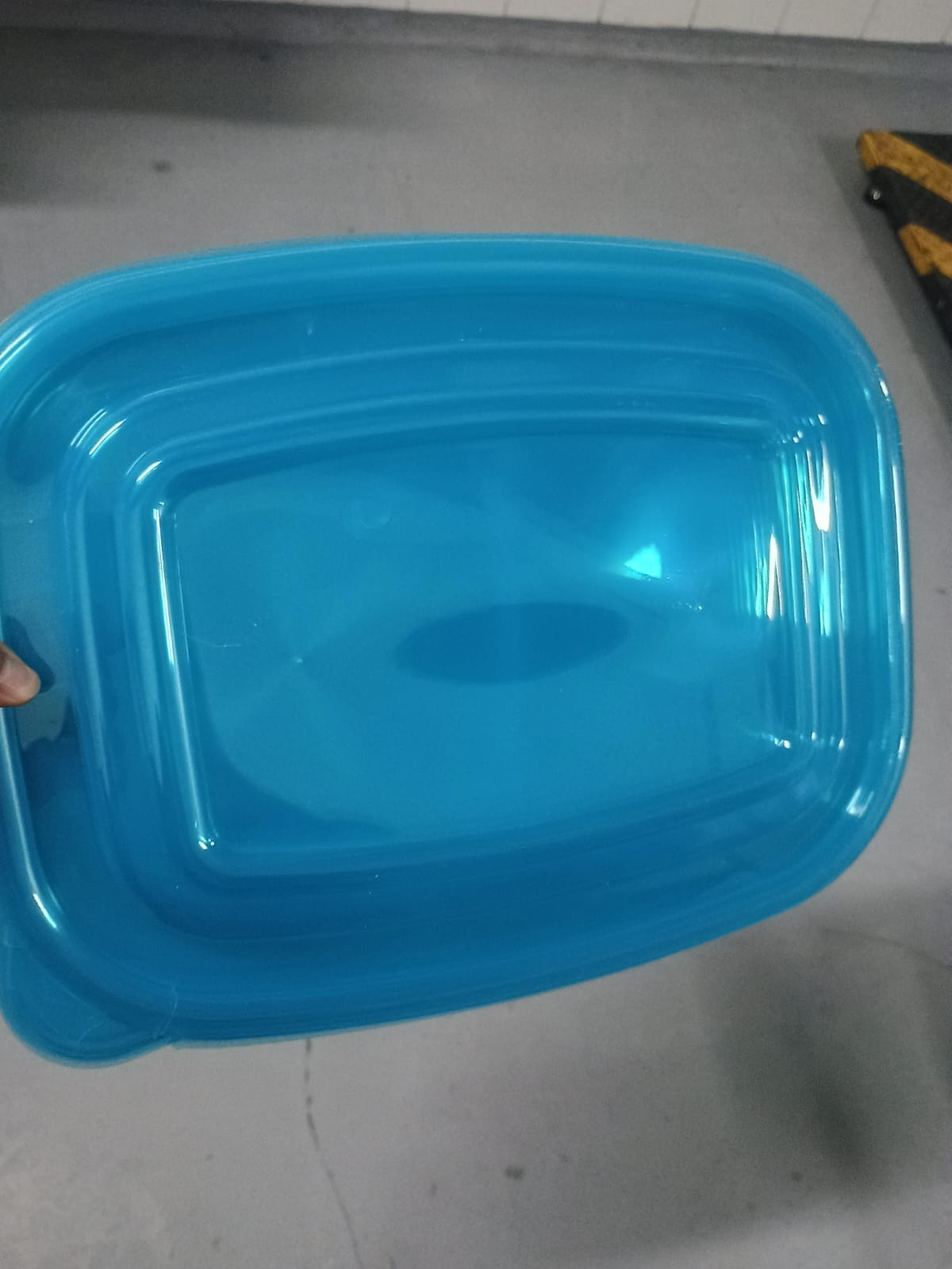Plastico: (0, 237, 912, 1069)
